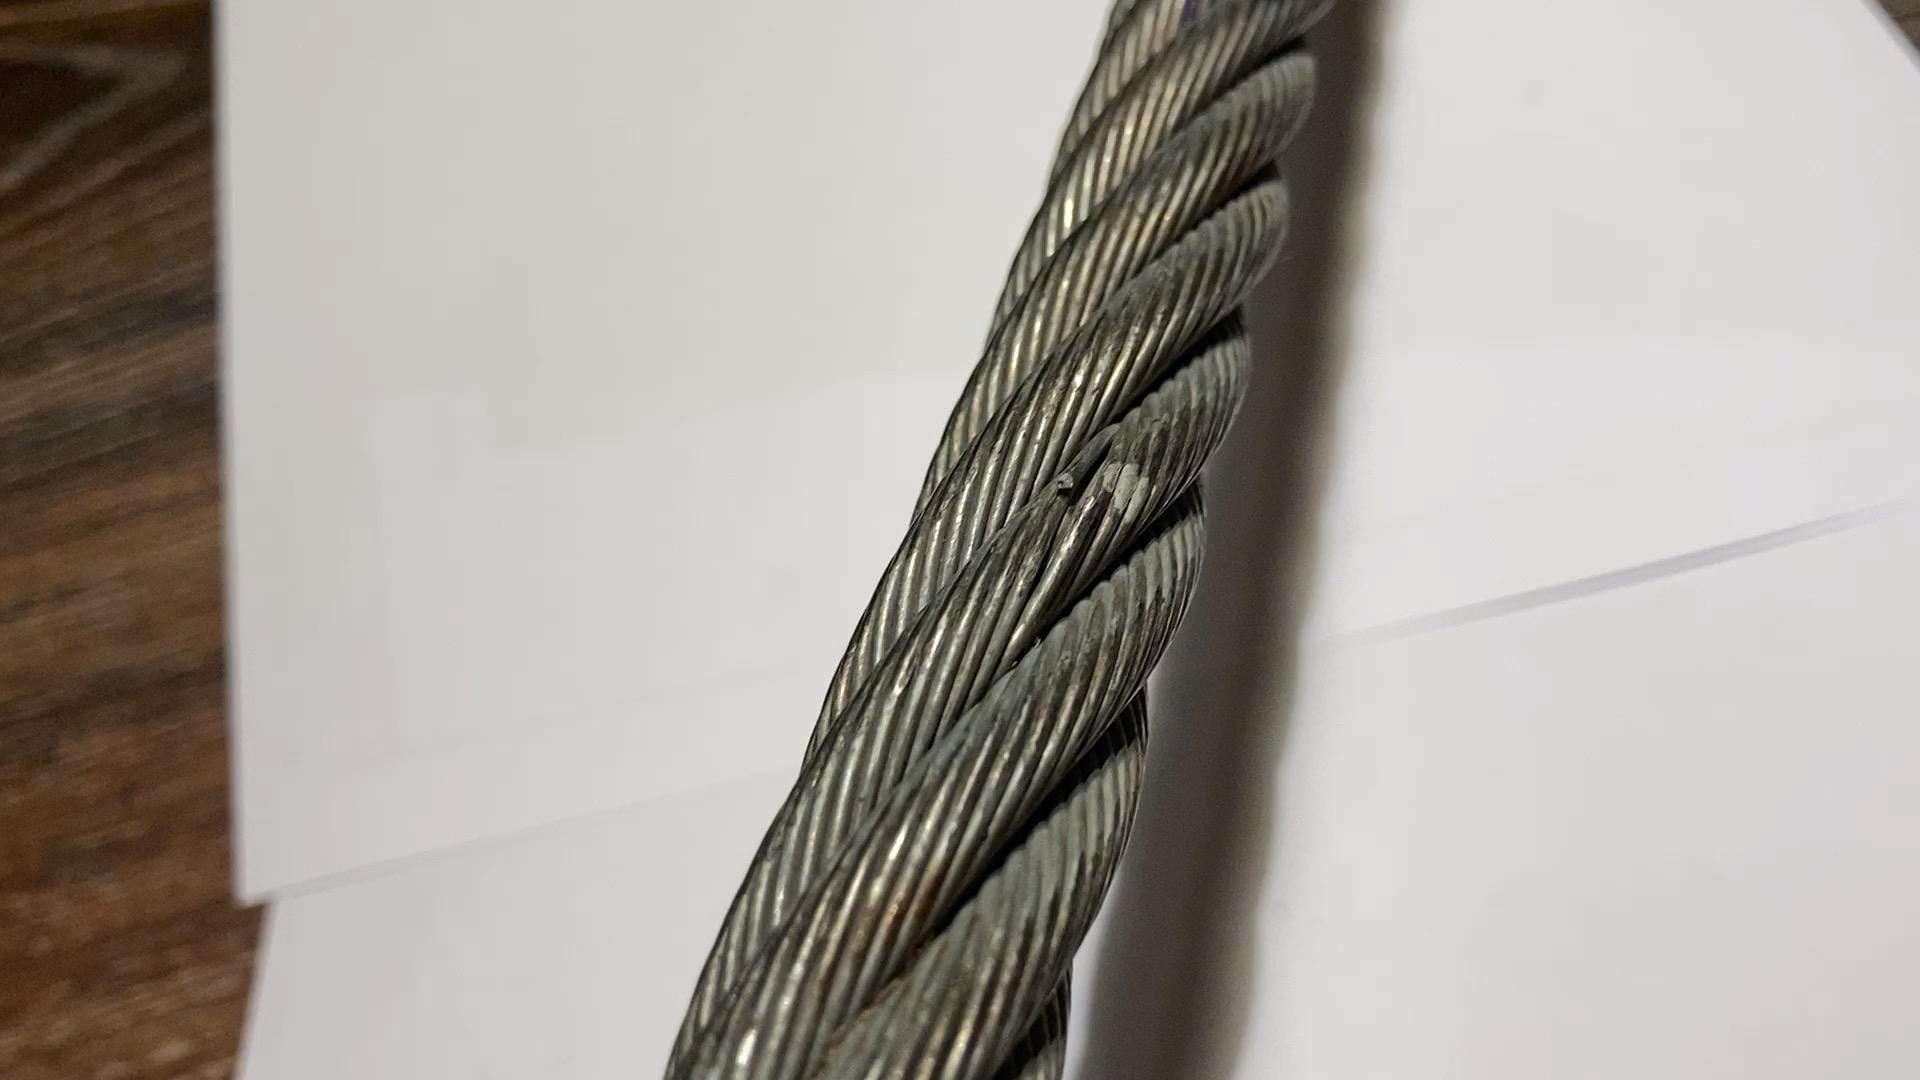break: (1047, 458, 1118, 518)
